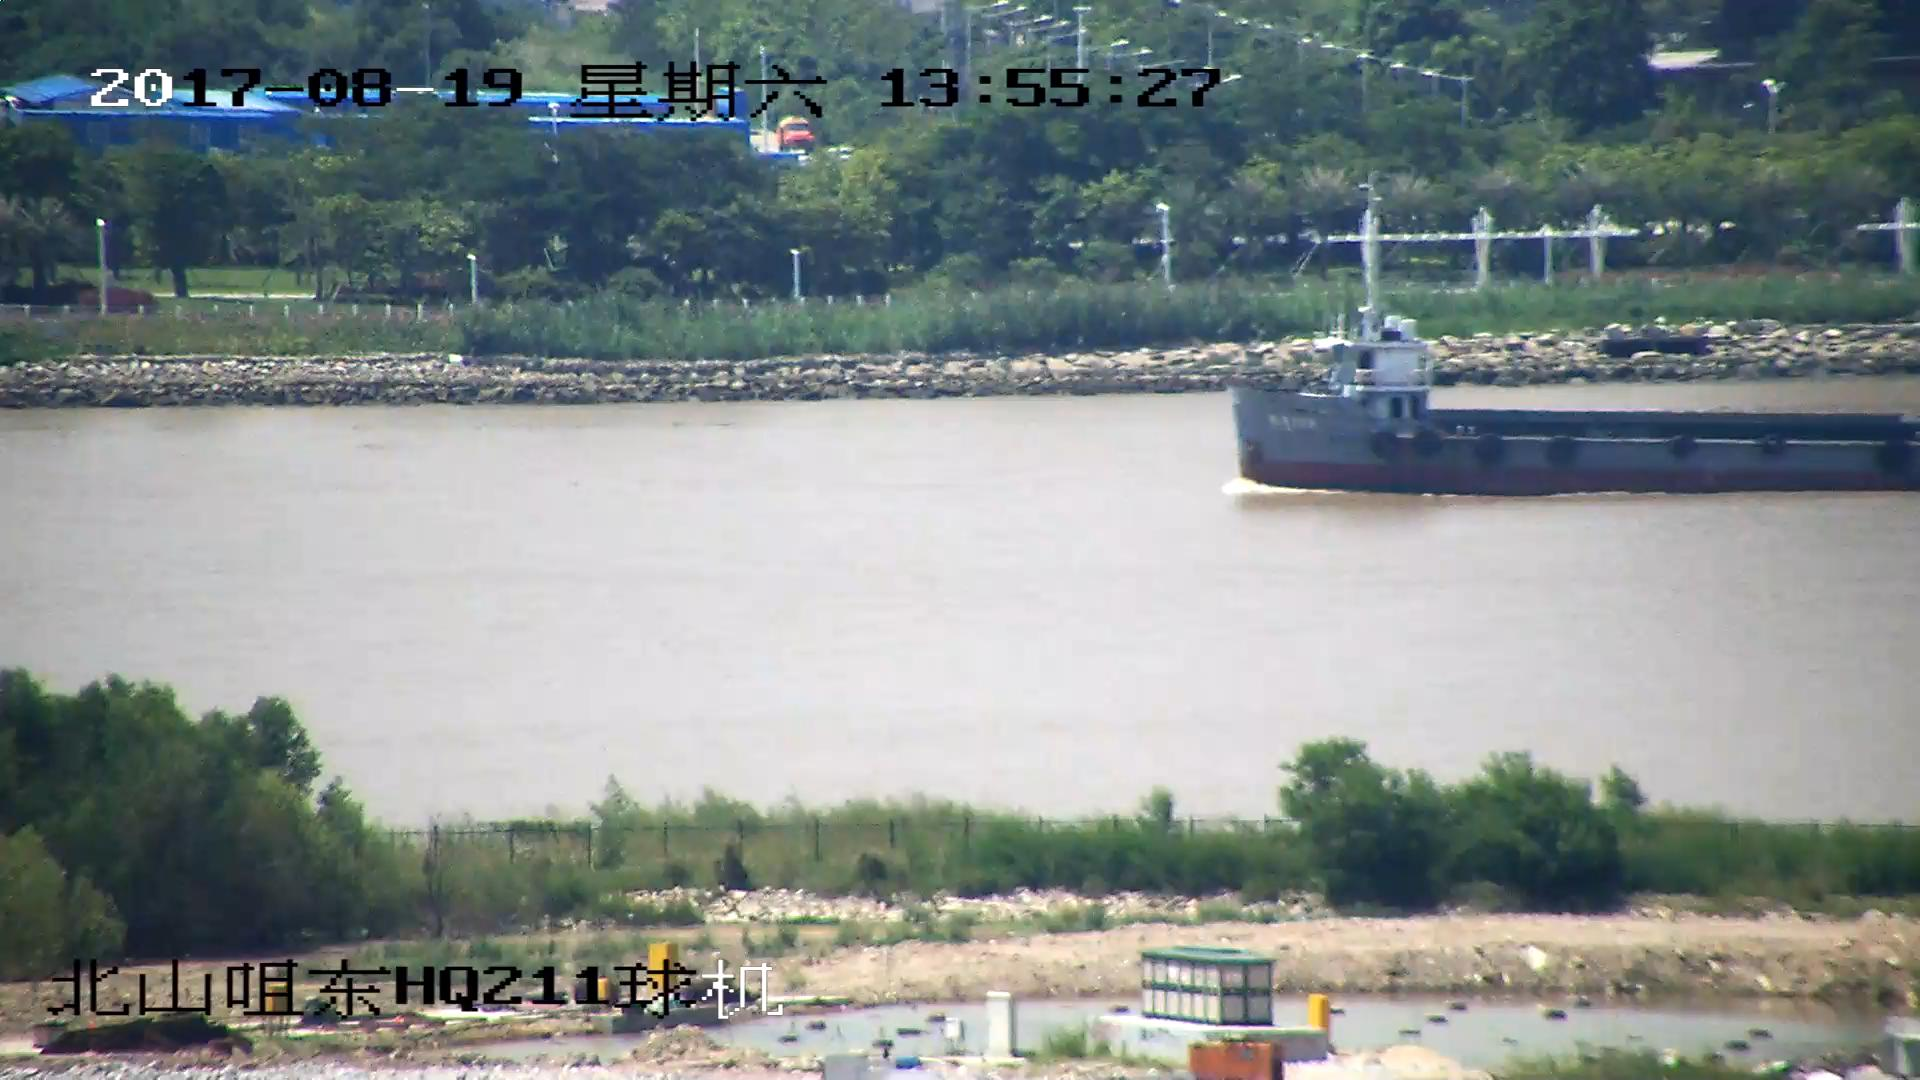general cargo ship: (1236, 326, 1920, 491)
